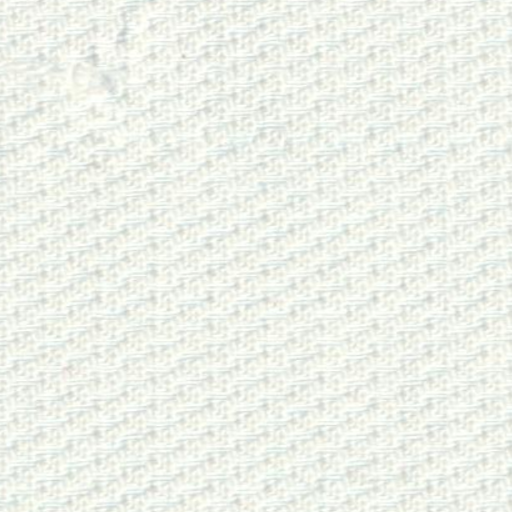DuanSha: (36, 13, 126, 126)
